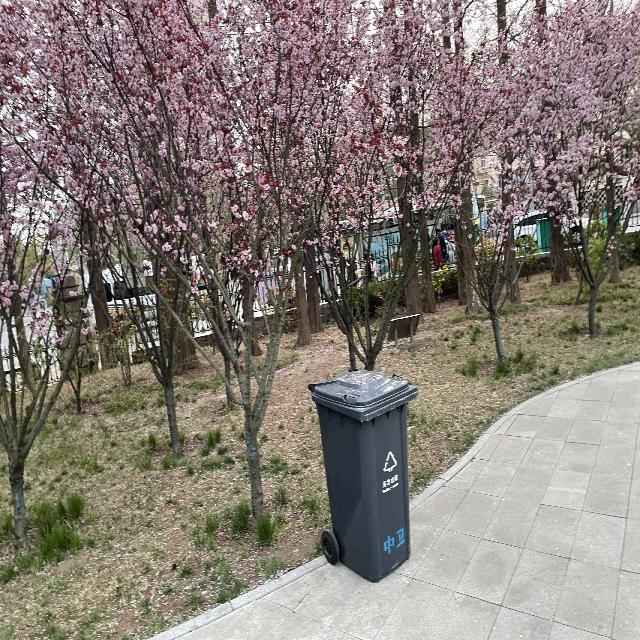garbage_bin: (306, 369, 418, 581)
